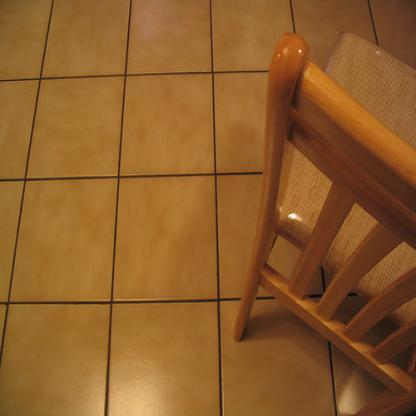chair: (232, 29, 415, 413)
